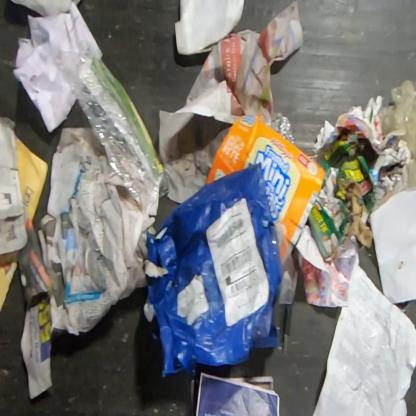cardboard: (203, 114, 326, 254), (308, 138, 380, 262)
soft_plastic: (145, 161, 284, 380), (55, 50, 170, 214), (375, 78, 416, 207), (274, 220, 299, 306), (262, 107, 296, 144)
